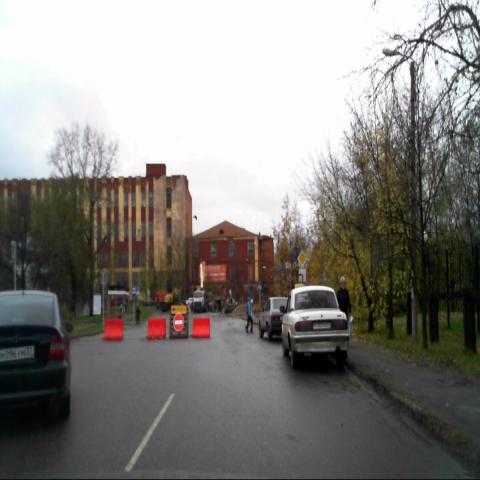2_1: (296, 249, 308, 267)
3_1: (172, 312, 184, 332)
8_13: (298, 267, 306, 284)
